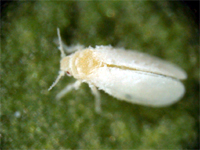whitefly: (44, 29, 187, 115)
